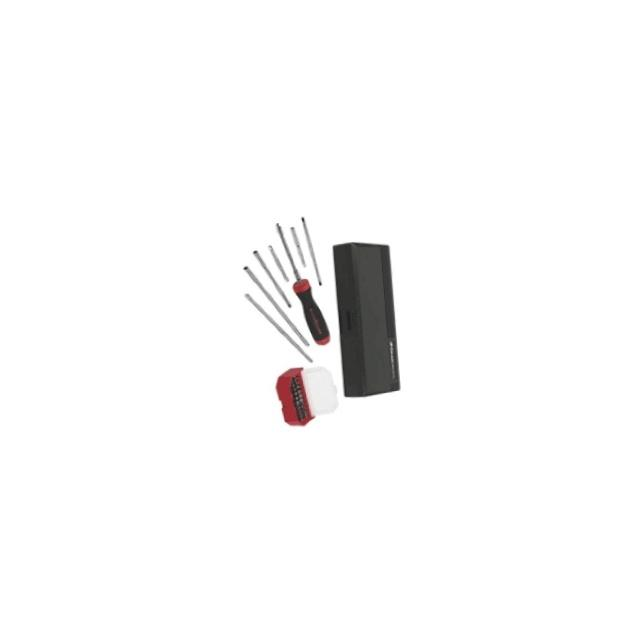screwdriver: (273, 214, 333, 352)
